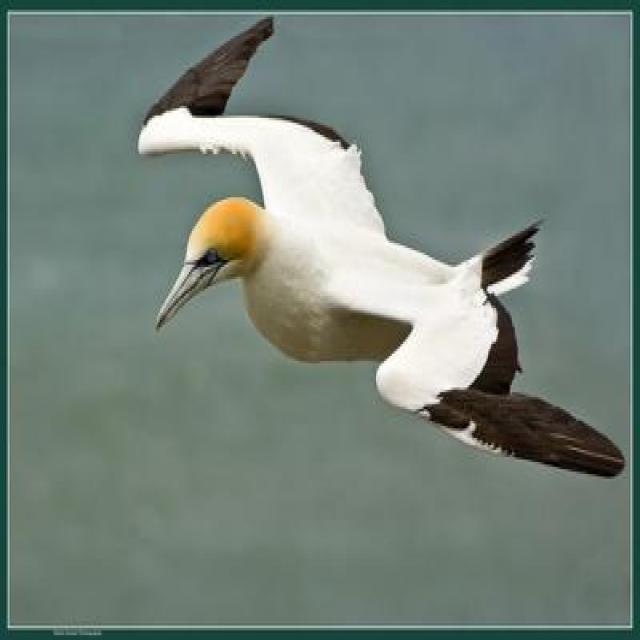birds: (122, 12, 628, 486)
